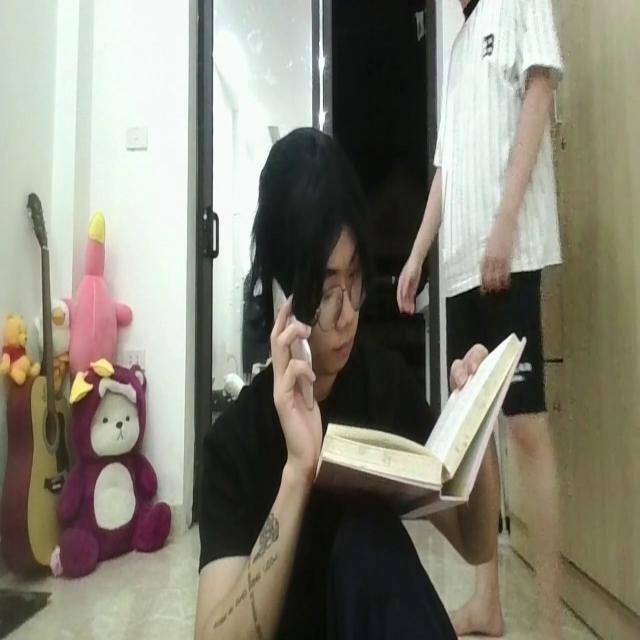book: (306, 331, 517, 514)
extra_person: (399, 0, 577, 640)
phone: (268, 272, 314, 416)
student: (194, 126, 524, 640)
